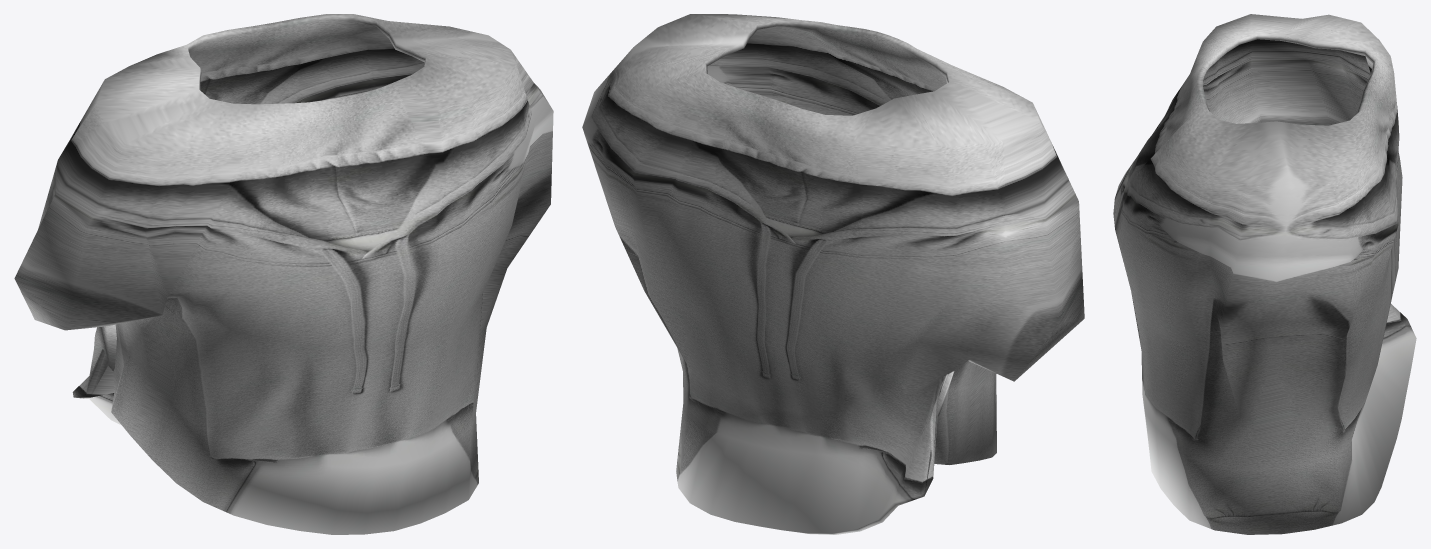
3 renders of one model, left to right at view 1: azimuth 30°, elevation 25°; view 2: azimuth 150°, elevation 25°; view 3: azimuth 270°, elevation 25°, orthographic. The views are drawn at different scales.
Parts seen in each view (by area): view 1: garment; view 2: garment; view 3: garment.
Boxes of the visible parts, x1,y1,x2,y2 form: garment: [14, 14, 553, 534]; garment: [582, 14, 1084, 534]; garment: [1113, 14, 1416, 534].
Bounding box in the file's own units: 0.5774 × 0.4817 × 0.3362.
Materials: 1 (1 with a texture image).
